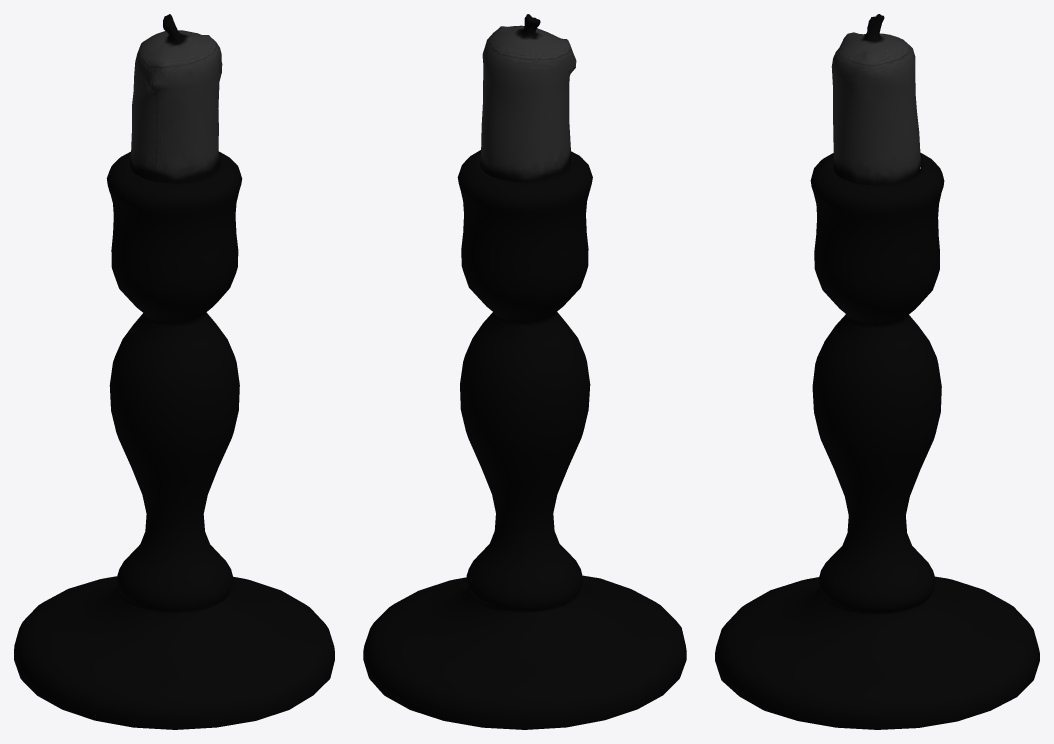
The model's file is leuchter.glb.
The picture shows the model from 3 angles, left to right: view 1: azimuth 30°, elevation 25°; view 2: azimuth 150°, elevation 25°; view 3: azimuth 270°, elevation 25°; orthographic projection.
Parts seen in each view (by area): view 1: wooden_candlestick; view 2: wooden_candlestick; view 3: wooden_candlestick.
Part boxes in pixels (<box>): wooden_candlestick: <box>14,14,334,729</box>; wooden_candlestick: <box>363,14,686,729</box>; wooden_candlestick: <box>715,14,1039,729</box>.
Size of the model in its own units: 0.0983 by 0.2197 by 0.0999.
1 material, 1 textured.
